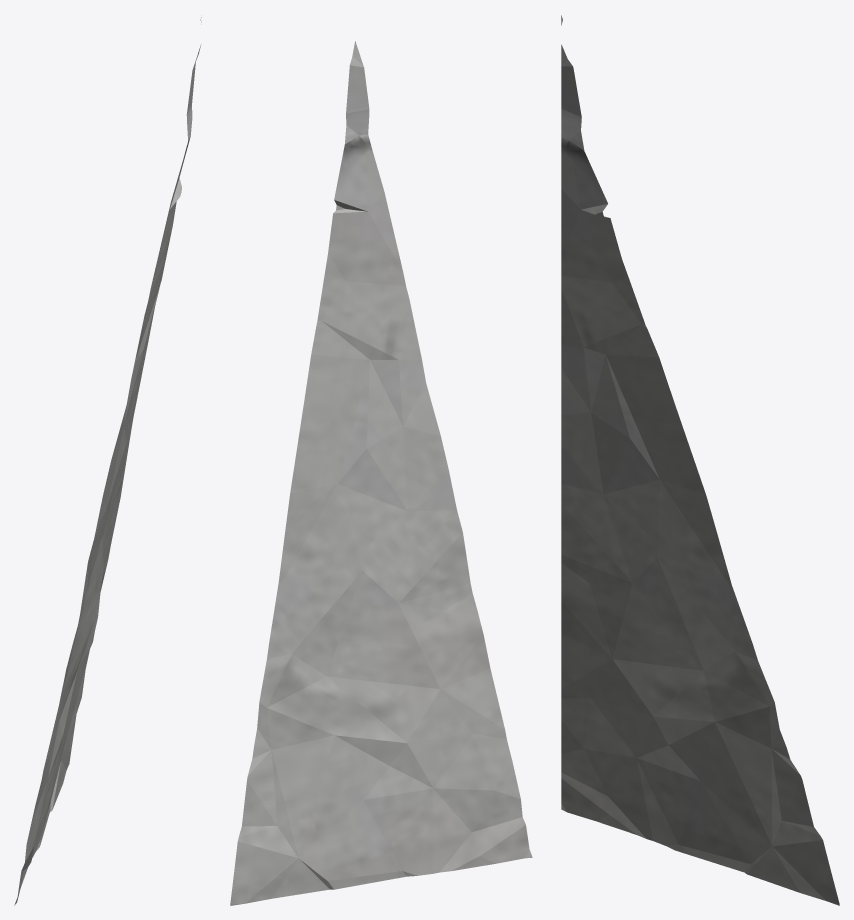
3 renders of one model, left to right at view 1: azimuth 30°, elevation 25°; view 2: azimuth 150°, elevation 25°; view 3: azimuth 270°, elevation 25°, orthographic. The views are drawn at different scales.
Size of the model in its own units: 0.1429 by 0.6157 by 0.1743.
1 material, 1 textured.
